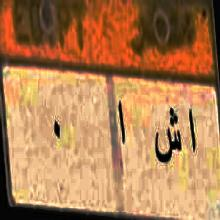0: (49, 106, 68, 160)
alif: (115, 95, 132, 151), (187, 105, 198, 160)
sheen: (155, 107, 181, 176)
